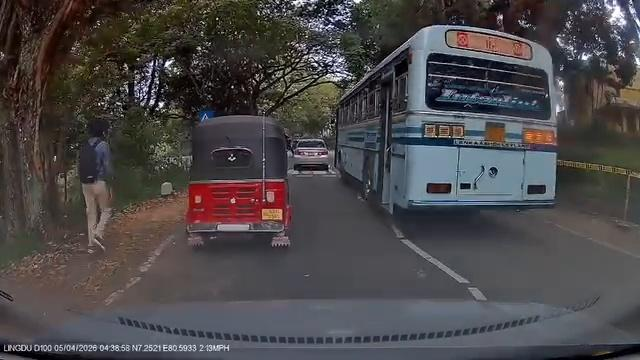illegal overtaking: (323, 46, 566, 248)
